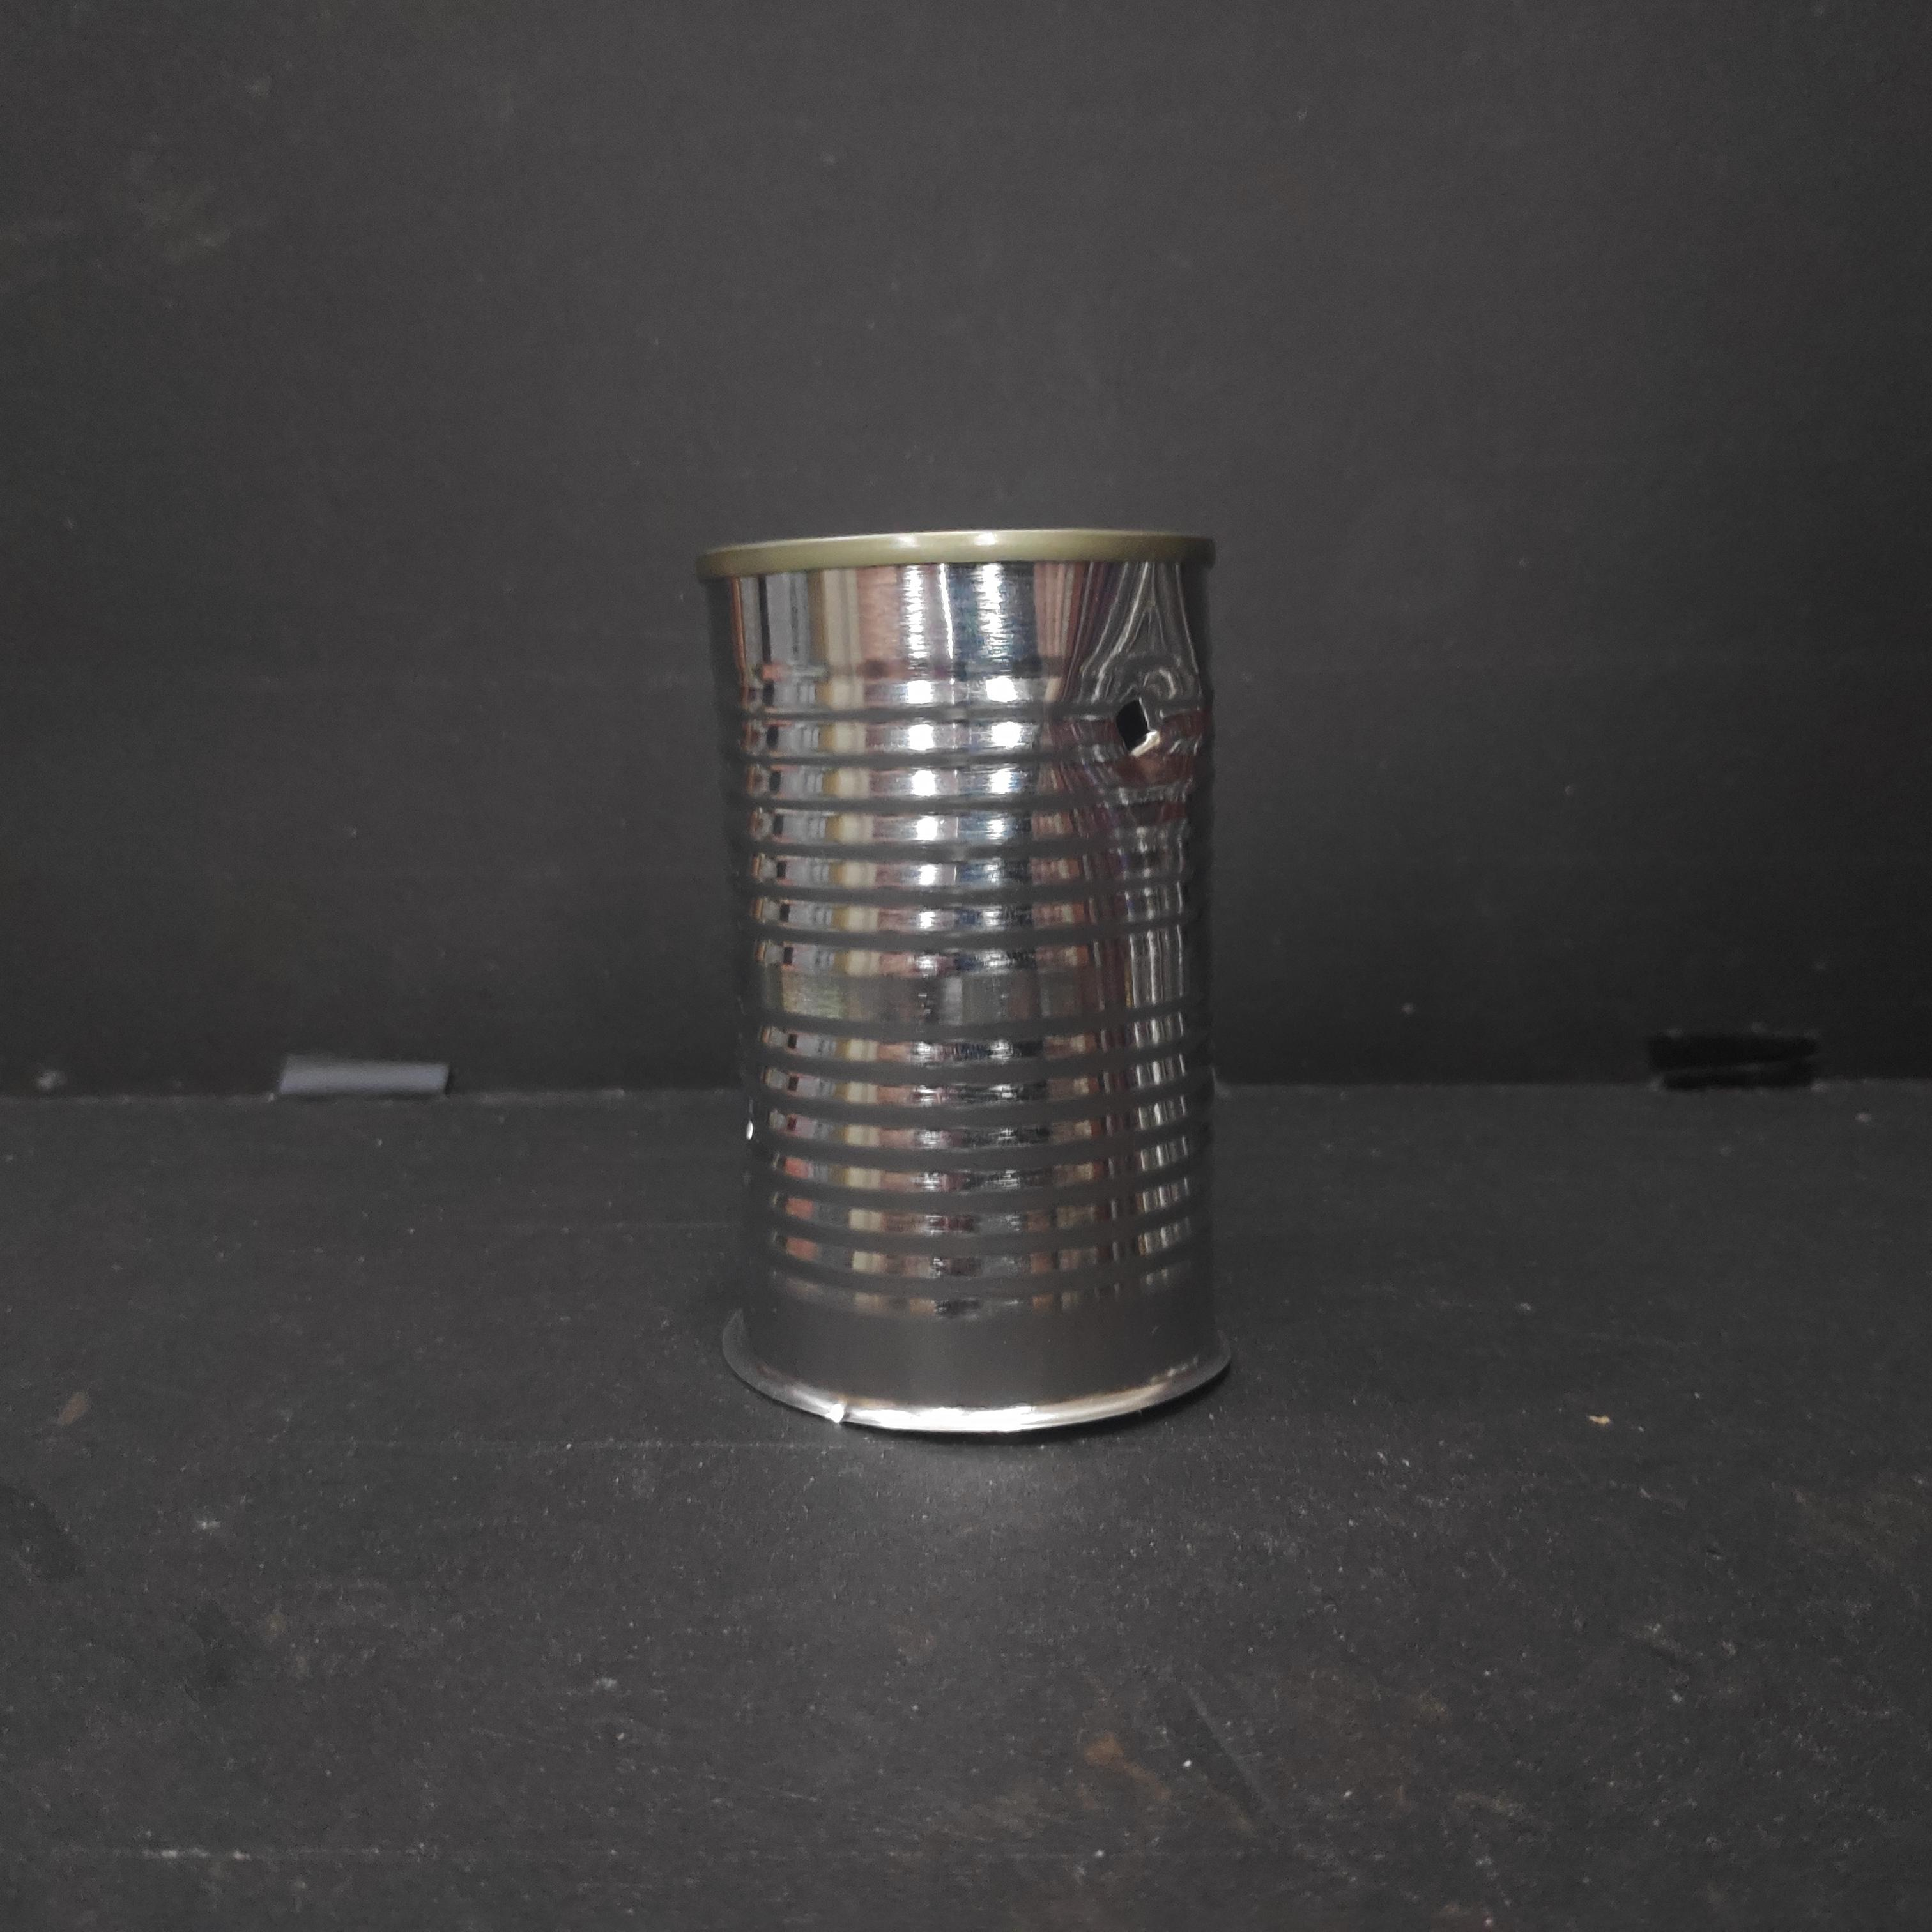Critical Defect: (681, 515, 1247, 1445)
